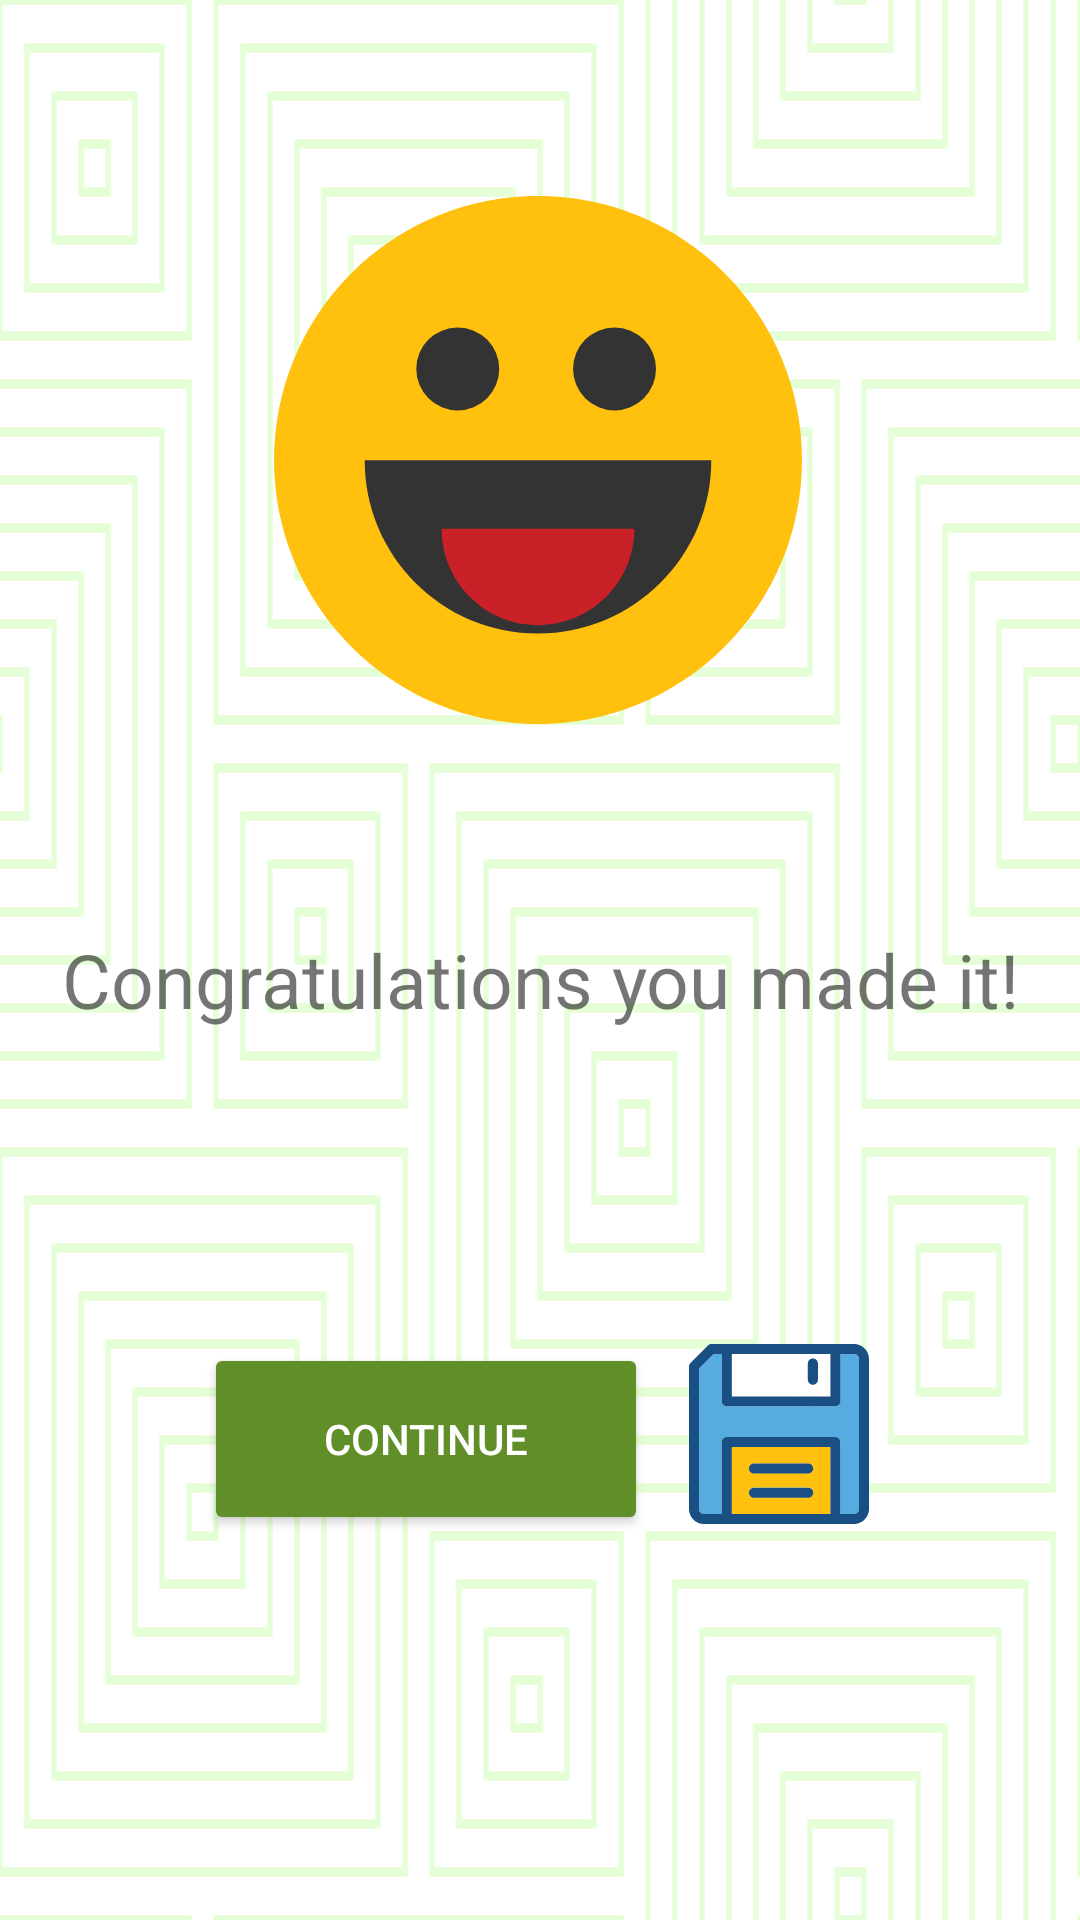

Where to tap for icons on this 1080px x 1920px app screen, as (x,y):
save: (778,1434)
